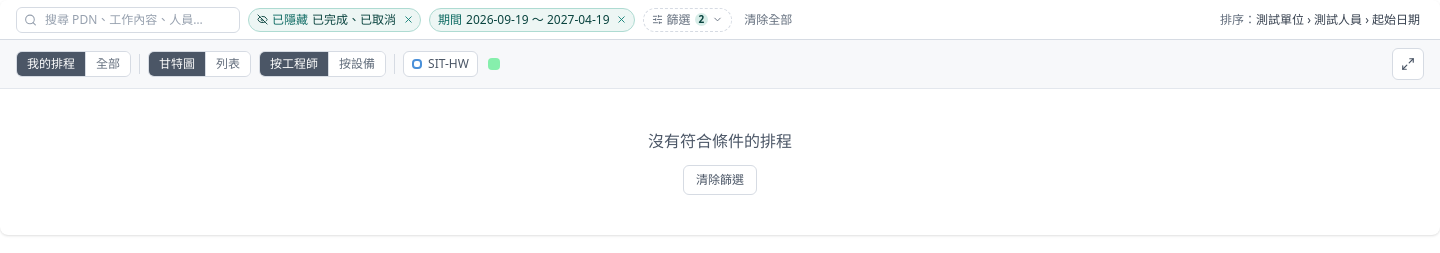
Test: 清除篩選保留目前的「我的排程／全部」 › user、名下沒有排程、篩選已等於清除目標（EMPTY_FILTER + showAllUnits: false）：不顯示清除篩選按鈕
Check: the message shows "沒有符合條件的排程", box 648,130 -> 792,195
Click the button "清除全部": (768, 20) 740,12 -> 796,28
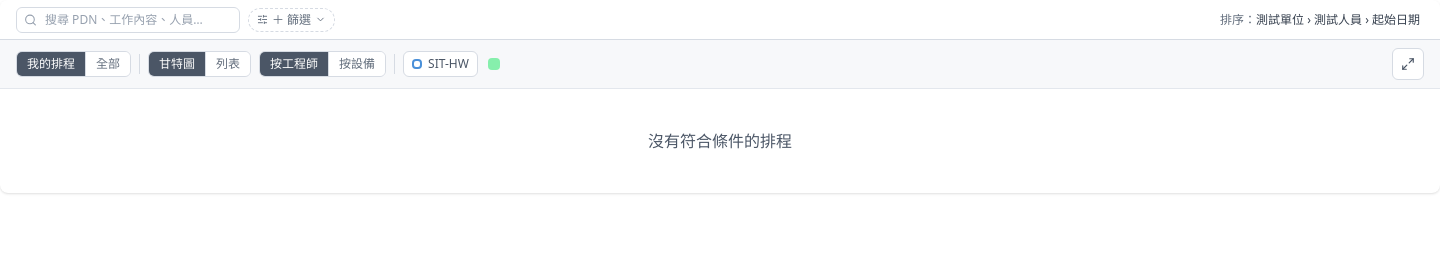
Check: the message reads "沒有符合條件的排程", box 648,130 -> 792,152
Check: the button "清除篩選" is gone
